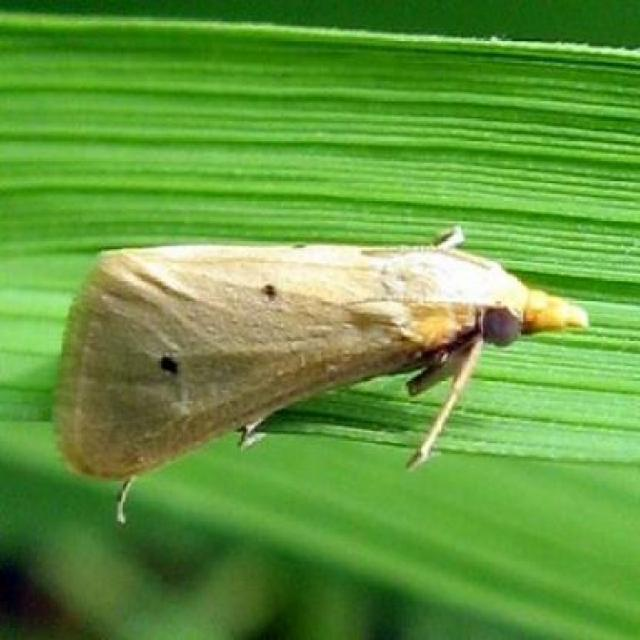stem-borer: (50, 223, 592, 528)
